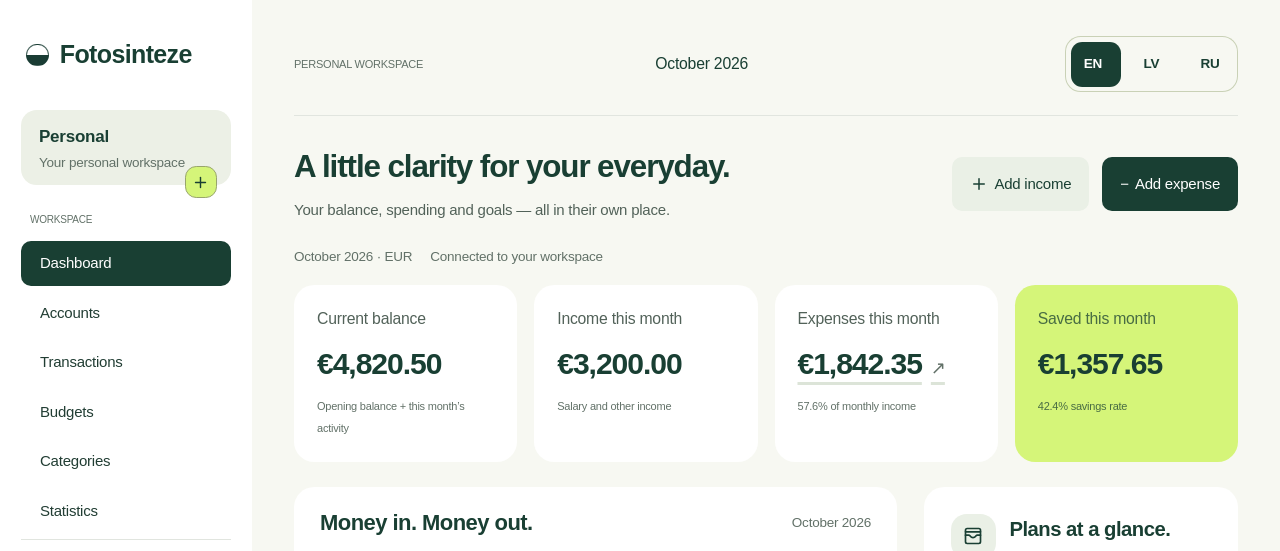
uses the shared Personal transaction menu with source filters and details
Check: the button with aria-label "Switch workspace, Personal" is shown, box x1=22 y1=110 x2=230 y2=184
Click the button "Transactions".
click(126, 362)  # box x1=21 y1=340 x2=231 y2=385
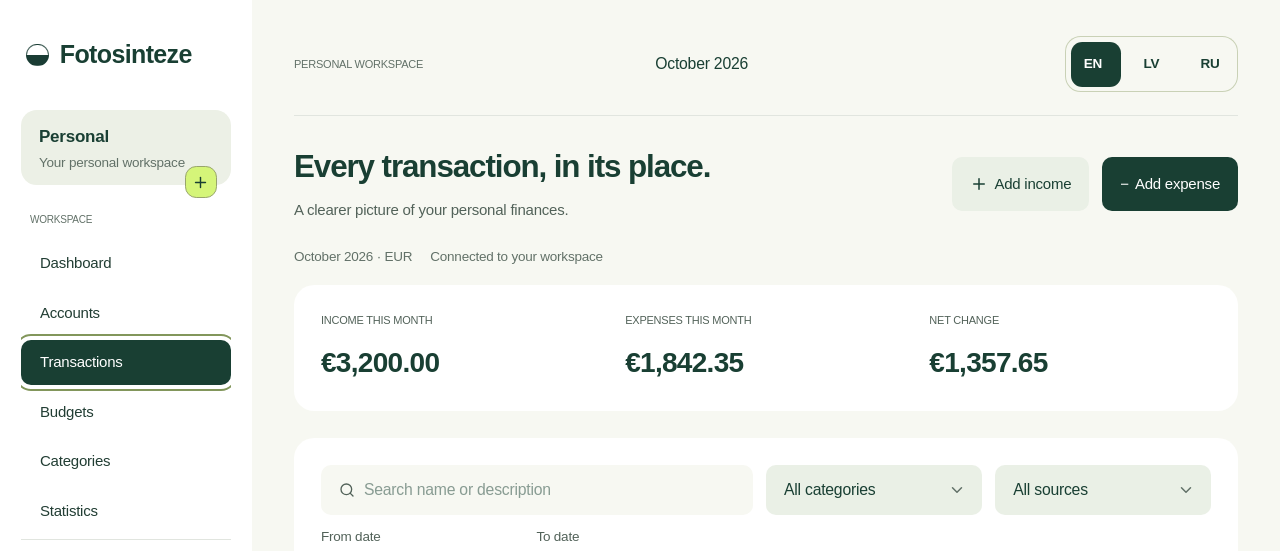
Select "Revolut" in the dropdown named "Filter by source" at (1103, 490), box x1=995 y1=465 x2=1211 y2=515
(page scrolled)
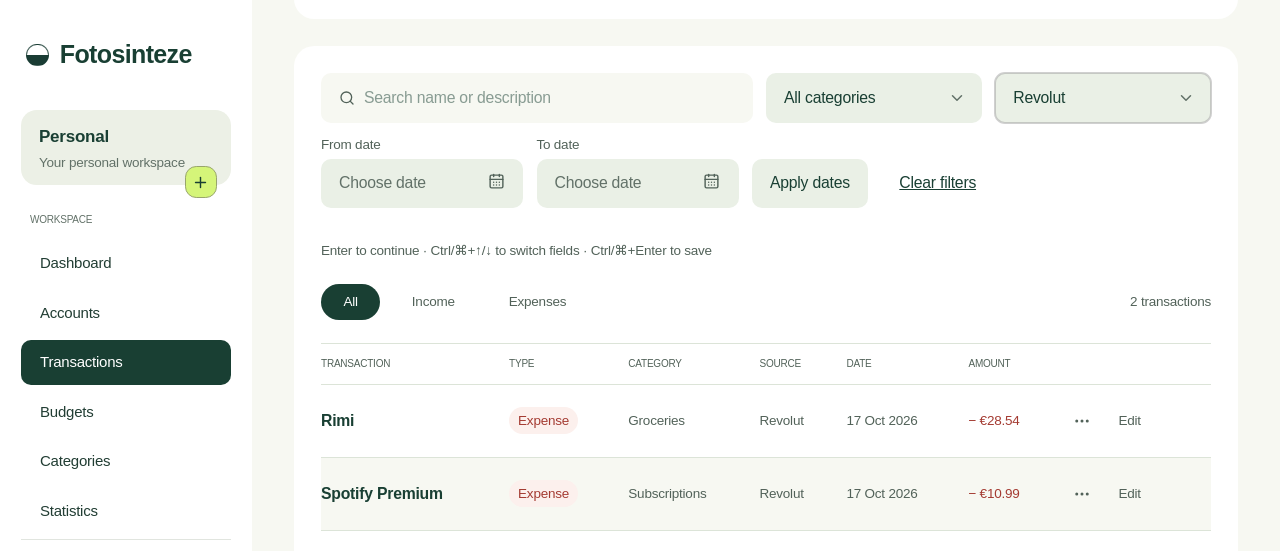
Check: the number of rows is 3, box x1=321 y1=343 x2=1211 y2=384; x1=321 y1=384 x2=1211 y2=457; x1=321 y1=457 x2=1211 y2=530
Click the button named "View Rimi details".
click(1082, 421)  # box x1=1064 y1=403 x2=1100 y2=439
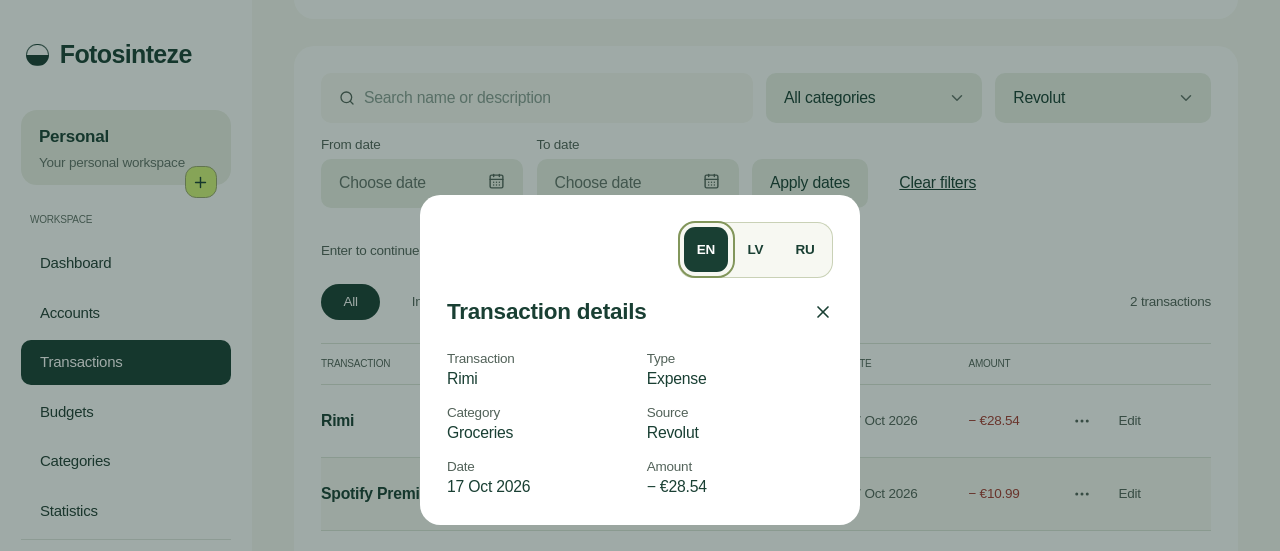
Check: the dialog shows "Revolut", box x1=647 y1=424 x2=699 y2=441
